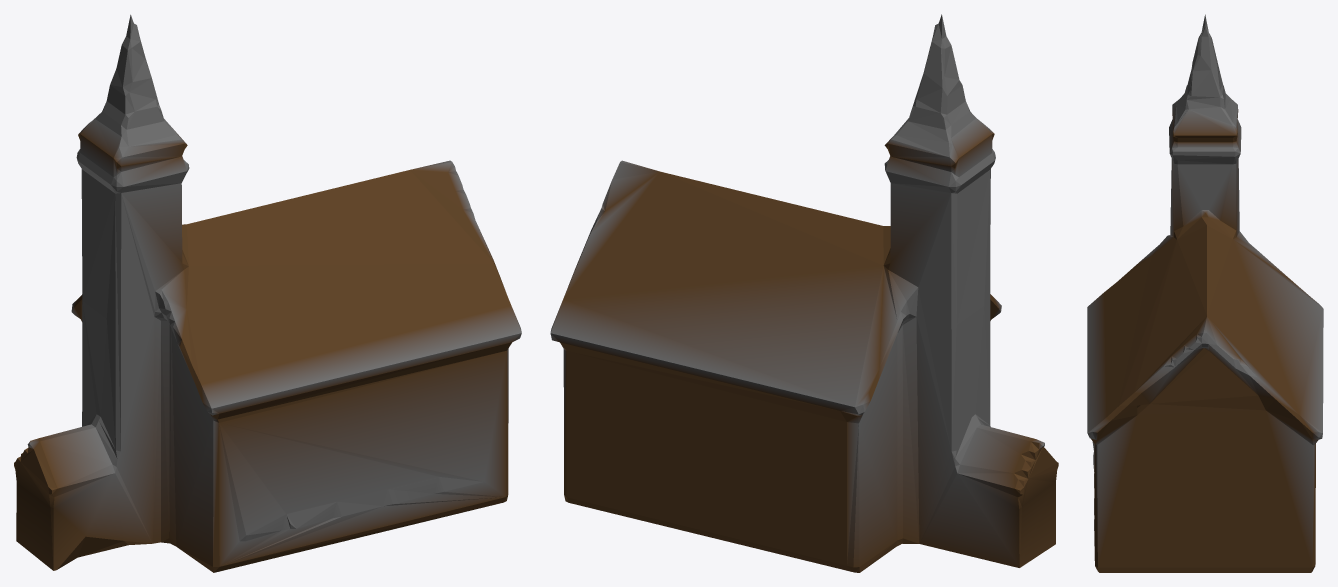
The model's file is Churches(3).glb.
3 views of the same model, side by side, from view 1: azimuth 30°, elevation 25°; view 2: azimuth 150°, elevation 25°; view 3: azimuth 270°, elevation 25° (orthographic). The views are drawn at different scales.
Parts seen in each view (by area): view 1: Root; view 2: Root; view 3: Root.
Part boxes in pixels (x1,y1,x2,y2): Root: [14, 14, 521, 572]; Root: [550, 14, 1058, 572]; Root: [1087, 14, 1323, 572].
Size of the model in its own units: 12.62 by 14.71 by 7.25.
